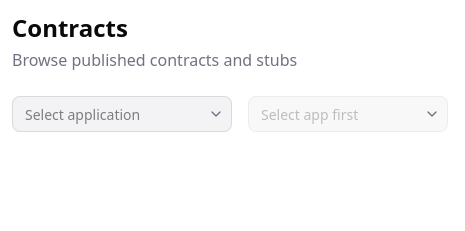
Scenario: ContractsPage › should populate application dropdown after loading
click on app input to open dropdown
Click the dropdown with placeholder "Select application".
click(122, 114)  # box [12,96,232,132]
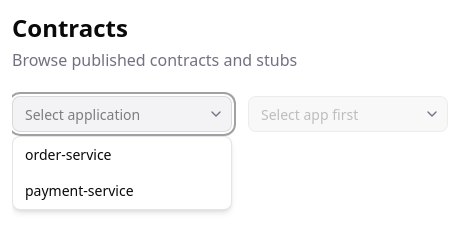
expect the option "order-service" is shown: met, box [25,145,112,164]
expect the option "payment-service" is shown: met, box [25,181,134,200]
